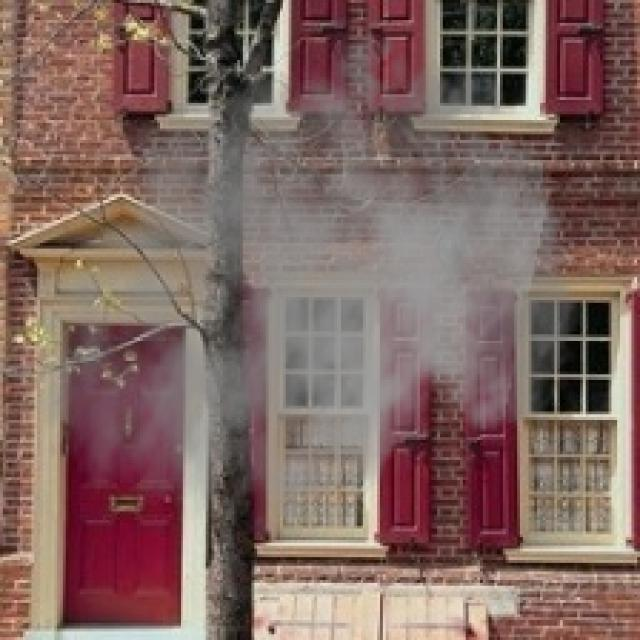Smoke: (34, 9, 589, 572)
